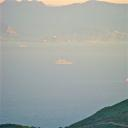Portanaves: (51, 56, 76, 68)
